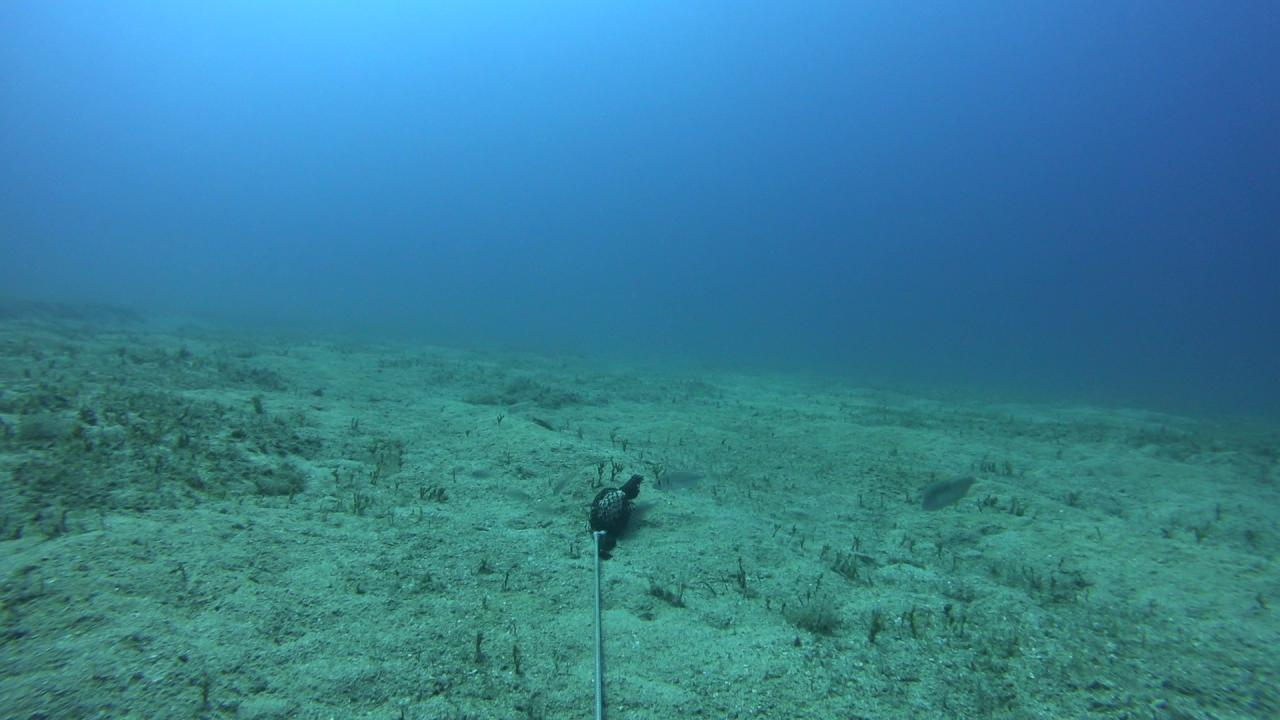pagellus: (651, 464, 714, 494)
raor: (920, 466, 987, 511)
